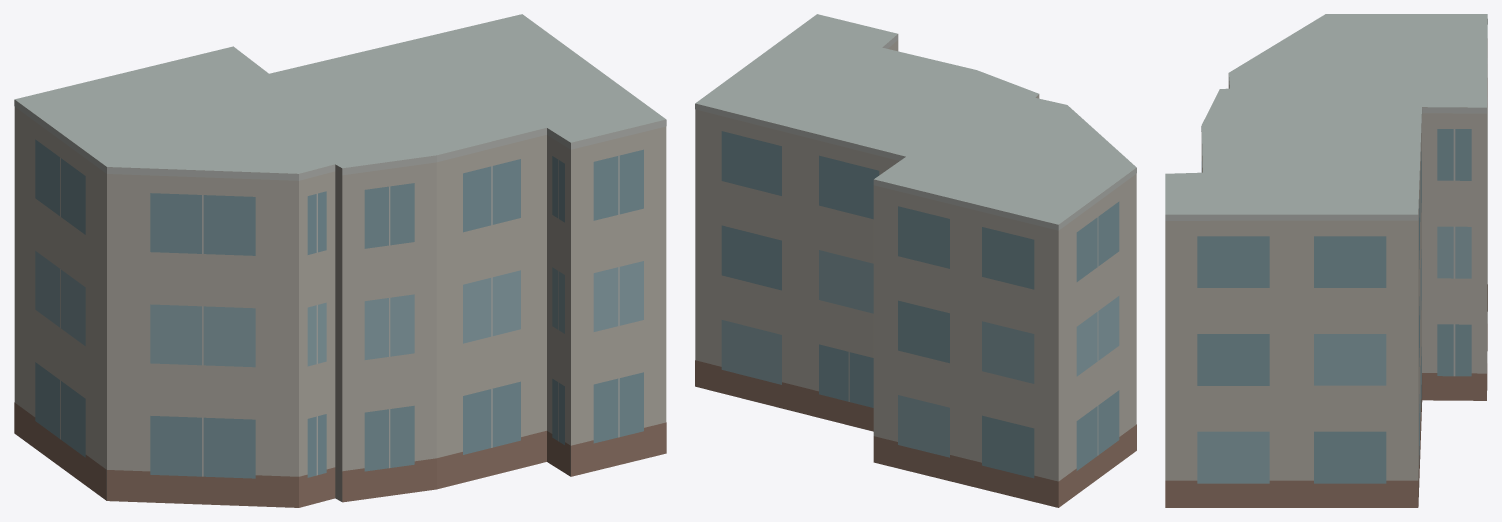
The model's file is survey-upis-32989917.glb.
The picture shows the model from 3 angles, left to right: view 1: azimuth 30°, elevation 25°; view 2: azimuth 150°, elevation 25°; view 3: azimuth 270°, elevation 25°; orthographic projection. The views are drawn at different scales.
Visible parts, largest first — view 1: survey-upis-32989917.tmp; view 2: survey-upis-32989917.tmp; view 3: survey-upis-32989917.tmp.
Boxes of the visible parts, x1,y1,x2,y2 form: survey-upis-32989917.tmp: (14,14,666,507); survey-upis-32989917.tmp: (695,14,1136,507); survey-upis-32989917.tmp: (1165,14,1487,507).
Bounding box in the file's own units: 17.07 × 11.62 × 11.59.
